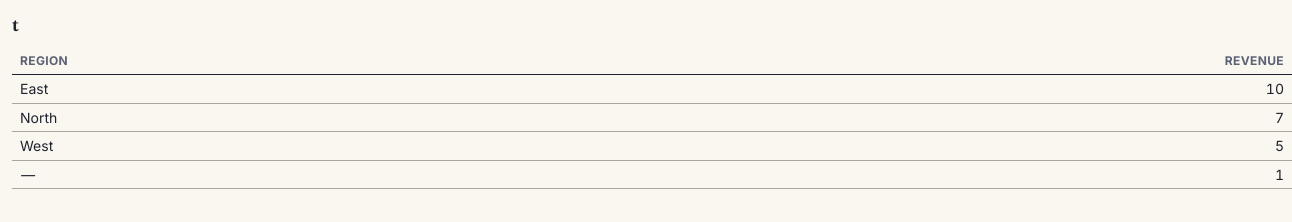
Scenario: drill on a table › a NULL cell sets nothing
The width and height of the screenshot is (1292, 222).
Click the row "— 1" at (652, 175), box [12,160,1291,189]
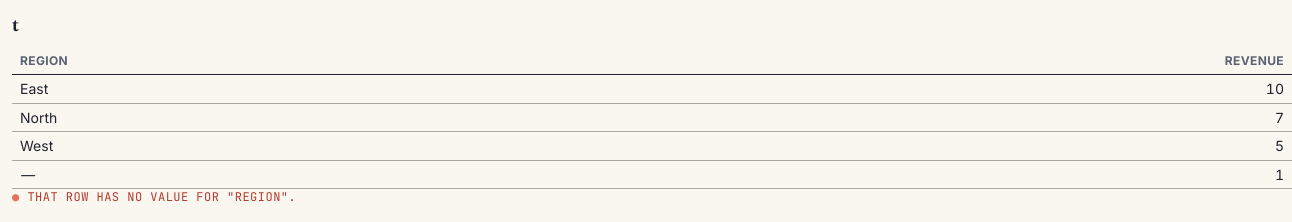
Expected: the message with test id "a2ui-drill-error" shows "no value", [27,189,296,205]
